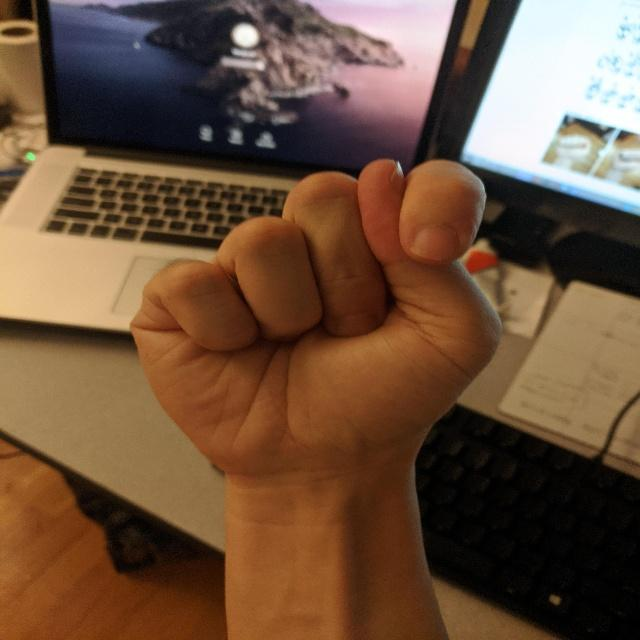T: (119, 149, 506, 486)
